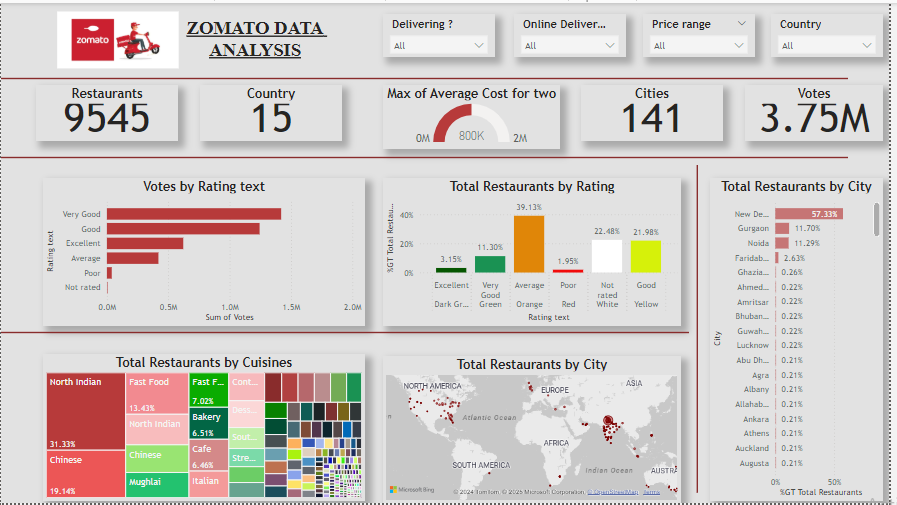

This screenshot's page, from the dashboard's own definition file:
{"tool":"powerbi","page":{"name":"Page 1","canvas":[1280,720],"ordinal":0},"visuals":[{"type":"slicer","fields":{"Values":["zomato.Country Names"]},"box":[1108.8,15.8,161.3,61.9],"z":0},{"type":"slicer","fields":{"Values":["zomato.Price range"]},"box":[924.5,15.8,161.3,61.9],"z":1000},{"type":"slicer","fields":{"Values":["zomato.Has Online delivery"]},"box":[738.7,15.8,161.3,61.9],"z":2000},{"type":"card","title":"Restaurants","fields":{"Values":["zomato.Total Restaurants"]},"box":[50.4,118.1,204.5,80.6],"z":3000},{"type":"card","title":"Country","fields":{"Values":["zomato.Total Country"]},"box":[286.6,118.1,204.5,80.6],"z":4000},{"type":"card","title":"Cities","fields":{"Values":["zomato.Total Cities"]},"box":[835.2,118.1,204.5,80.6],"z":5000},{"type":"card","title":"Votes","fields":{"Values":["Sum(zomato.Votes)"]},"box":[1071.4,118.1,198.7,80.6],"z":6000},{"type":"clusteredBarChart","title":" Total Restaurants by City","fields":{"Category":["zomato.City"],"Y":["zomato.Total Restaurants"]},"box":[1021,252,249.1,465.1],"z":7000},{"type":"treemap","title":"Total Restaurants by Cuisines","fields":{"Group":["zomato.Cuisines"],"Values":["zomato.Total Restaurants"]},"box":[60.5,505.4,463.7,211.7],"z":8000},{"type":"columnChart","title":"Total Restaurants by Rating ","fields":{"Category":["zomato.Rating color","zomato.Rating text"],"Y":["zomato.Total Restaurants"]},"box":[550.1,252,429.1,213.1],"z":9000},{"type":"clusteredBarChart","title":"Votes by Rating text","fields":{"Category":["zomato.Rating text"],"Y":["Sum(zomato.Votes)"]},"box":[60.5,252,463.7,213.1],"z":10000},{"type":"gauge","fields":{"Y":["Max(zomato.Average Cost for two)"]},"box":[550.1,118.1,254.9,92.2],"z":11000},{"type":"map","fields":{"Category":["zomato.City"],"Size":["zomato.Total Restaurants"]},"box":[550.1,508.3,429.1,211.7],"z":12000},{"type":"slicer","fields":{"Values":["zomato.Has Online delivery"]},"box":[550.1,15.8,161.3,61.9],"z":13000},{"type":"textbox","box":[240.5,15.8,250.6,73.4],"z":14000},{"type":"shape","box":[0,210.2,1219.7,24.5],"z":15000},{"type":"shape","box":[0,443.5,990.7,61.9],"z":16000},{"type":"shape","box":[985,233.9,35.4,472],"z":17000},{"type":"shape","box":[0,99.4,1219.7,18.7],"z":18000},{"type":"image","box":[74.9,7.2,187.2,92.2],"z":18001}]}

Visuals, with their boxes in screenshot pixels (x1, y1, x2, y2), scaled from the page's 1280x720 canvas onto the 897x505 screenshot:
slicer - zomato.Country Names: crop(777, 11, 890, 54)
slicer - zomato.Price range: crop(648, 11, 761, 54)
slicer - zomato.Has Online delivery: crop(518, 11, 631, 54)
"Restaurants" card: crop(35, 83, 179, 139)
"Country" card: crop(201, 83, 344, 139)
"Cities" card: crop(585, 83, 729, 139)
"Votes" card: crop(751, 83, 890, 139)
" Total Restaurants by City" clusteredBarChart: crop(715, 177, 890, 503)
"Total Restaurants by Cuisines" treemap: crop(42, 354, 367, 503)
"Total Restaurants by Rating " columnChart: crop(385, 177, 686, 326)
"Votes by Rating text" clusteredBarChart: crop(42, 177, 367, 326)
gauge - Max(zomato.Average Cost for two): crop(385, 83, 564, 148)
map - zomato.City x zomato.Total Restaurants: crop(385, 357, 686, 504)
slicer - zomato.Has Online delivery: crop(385, 11, 499, 54)
textbox: crop(169, 11, 344, 63)
shape: crop(0, 147, 855, 165)
shape: crop(0, 311, 694, 354)
shape: crop(690, 164, 715, 495)
shape: crop(0, 70, 855, 83)
image: crop(52, 5, 184, 70)
